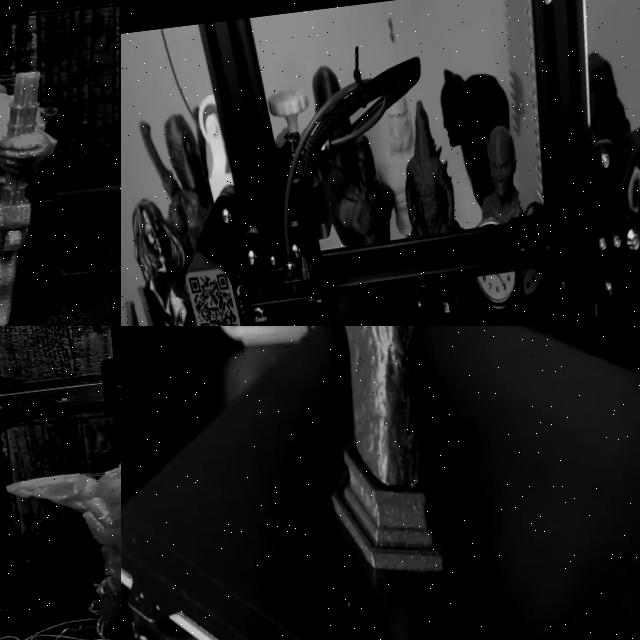spaghetti: (0, 601, 115, 640)
